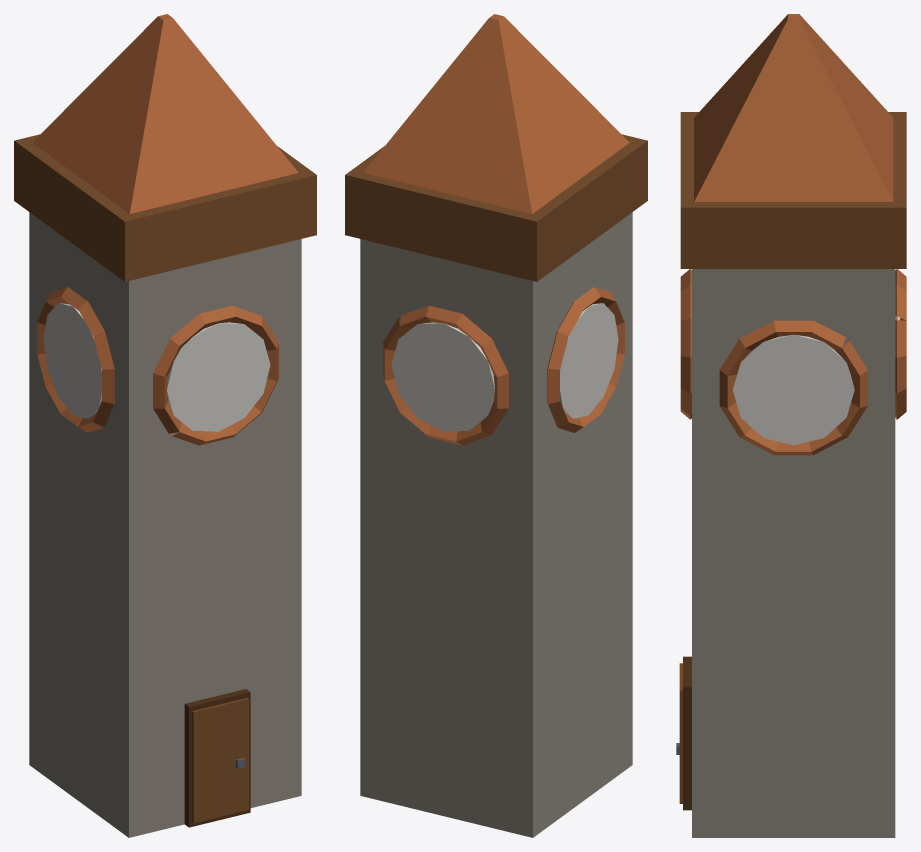
File: gnome_landmark_broken.glb
3 renders of one model, left to right at view 1: azimuth 30°, elevation 25°; view 2: azimuth 150°, elevation 25°; view 3: azimuth 270°, elevation 25°, orthographic. The views are drawn at different scales.
Visible parts, largest first — view 1: gnome_landmark_piece2, gnome_landmark_piece0, gnome_landmark_piece5, gnome_landmark_piece9, gnome_landmark_piece6, gnome_landmark_piece1, gnome_landmark_piece11, gnome_landmark_piece4, gnome_landmark_piece8; view 2: gnome_landmark_piece1, gnome_landmark_piece0, gnome_landmark_piece7, gnome_landmark_piece4, gnome_landmark_piece2, gnome_landmark_piece10, gnome_landmark_piece9, gnome_landmark_piece3, gnome_landmark_piece5; view 3: gnome_landmark_piece5, gnome_landmark_piece8, gnome_landmark_piece7, gnome_landmark_piece3, gnome_landmark_piece4, gnome_landmark_piece6, gnome_landmark_piece10, gnome_landmark_piece9, gnome_landmark_piece0, gnome_landmark_piece2.
Boxes of the visible parts, <box> form: gnome_landmark_piece2: <box>29,288,301,700</box>; gnome_landmark_piece0: <box>14,63,224,469</box>; gnome_landmark_piece5: <box>88,605,301,837</box>; gnome_landmark_piece9: <box>100,14,243,328</box>; gnome_landmark_piece6: <box>204,196,301,554</box>; gnome_landmark_piece1: <box>29,374,103,807</box>; gnome_landmark_piece11: <box>142,329,225,501</box>; gnome_landmark_piece4: <box>190,40,264,275</box>; gnome_landmark_piece8: <box>256,130,316,270</box>; gnome_landmark_piece1: <box>482,414,607,837</box>; gnome_landmark_piece0: <box>467,92,645,389</box>; gnome_landmark_piece7: <box>360,474,488,826</box>; gnome_landmark_piece4: <box>350,29,487,399</box>; gnome_landmark_piece2: <box>455,361,632,626</box>; gnome_landmark_piece10: <box>360,351,484,594</box>; gnome_landmark_piece9: <box>476,14,647,201</box>; gnome_landmark_piece3: <box>345,163,423,381</box>; gnome_landmark_piece5: <box>592,583,632,794</box>; gnome_landmark_piece5: <box>676,511,847,837</box>; gnome_landmark_piece8: <box>680,151,874,481</box>; gnome_landmark_piece7: <box>796,474,895,837</box>; gnome_landmark_piece3: <box>715,198,906,579</box>; gnome_landmark_piece4: <box>680,31,906,320</box>; gnome_landmark_piece6: <box>680,281,754,591</box>; gnome_landmark_piece10: <box>825,365,906,508</box>; gnome_landmark_piece9: <box>680,14,841,288</box>; gnome_landmark_piece0: <box>684,52,906,275</box>; gnome_landmark_piece2: <box>692,557,759,642</box>.
Bounding box in the file's own units: 1 × 3.8 × 1.02.
